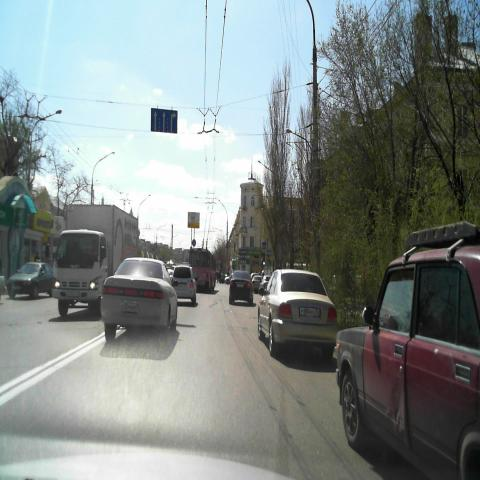5_15_1: (150, 107, 178, 133)
